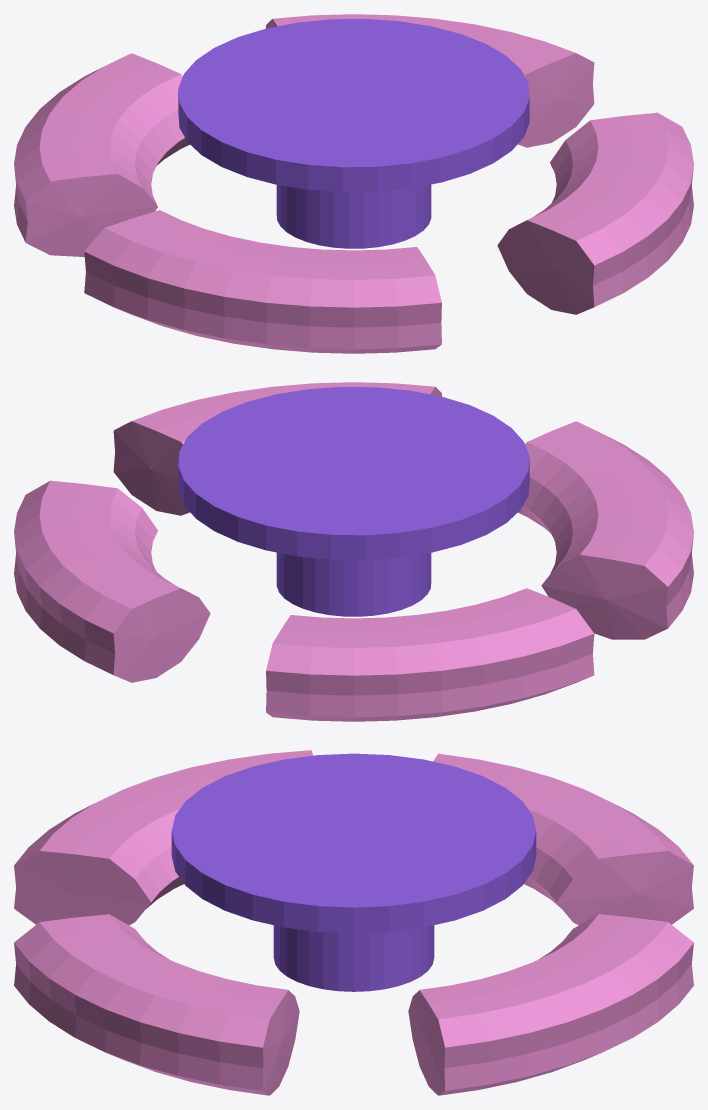
Rendered from meja bundar.fbx.
3 renders of one model, top to bottom at view 1: azimuth 30°, elevation 25°; view 2: azimuth 150°, elevation 25°; view 3: azimuth 270°, elevation 25°, orthographic. The views are drawn at different scales.
Parts seen in each view (by area): view 1: Torus, Cylinder; view 2: Torus, Cylinder; view 3: Torus, Cylinder.
Part boxes in pixels (x1,y1,x2,y2): Torus: (14, 14, 693, 353); Cylinder: (178, 19, 529, 248); Torus: (14, 382, 693, 721); Cylinder: (178, 387, 529, 616); Torus: (14, 750, 693, 1095); Cylinder: (171, 753, 536, 991).
Size of the model in its own units: 2231 by 494 by 2202.
